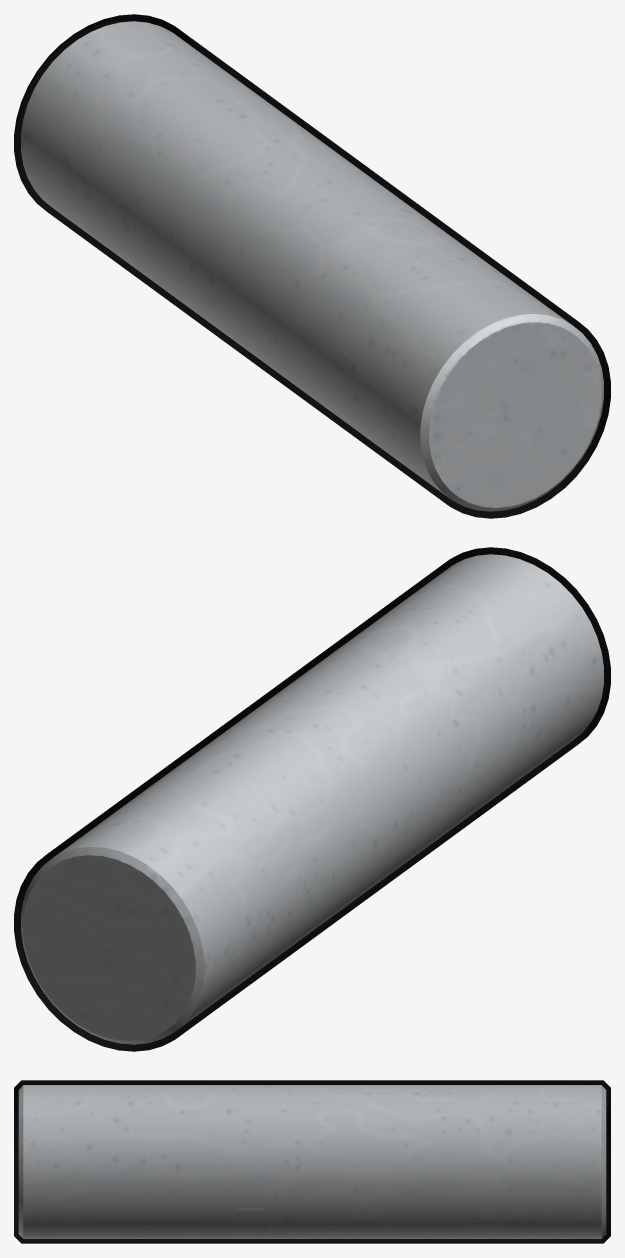
Rendered from WristPin.fbx.
3 views of the same model, one above another, from view 1: azimuth 30°, elevation 25°; view 2: azimuth 150°, elevation 25°; view 3: azimuth 270°, elevation 25° (orthographic). The views are drawn at different scales.
Parts seen in each view (by area): view 1: WristPin; view 2: WristPin; view 3: WristPin.
Boxes of the visible parts, x1,y1,x2,y2 form: WristPin: (14,14,610,518); WristPin: (14,547,610,1051); WristPin: (14,1080,610,1243).
Size of the model in its own units: 0.0209 by 0.0209 by 0.0768.
Materials: 1 (1 with a texture image).
